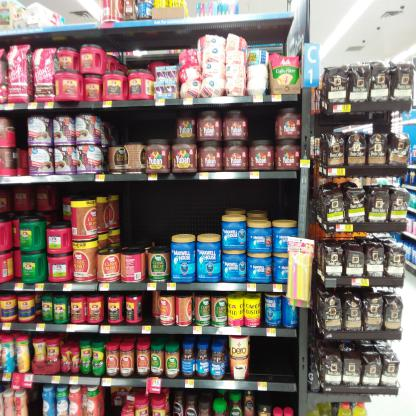Void: (121, 190, 160, 248), (255, 334, 293, 382), (5, 190, 65, 218), (116, 113, 170, 143), (176, 190, 212, 228), (271, 186, 294, 218), (16, 117, 29, 173), (120, 42, 153, 64), (227, 190, 259, 209), (252, 116, 273, 138), (245, 107, 247, 112)
